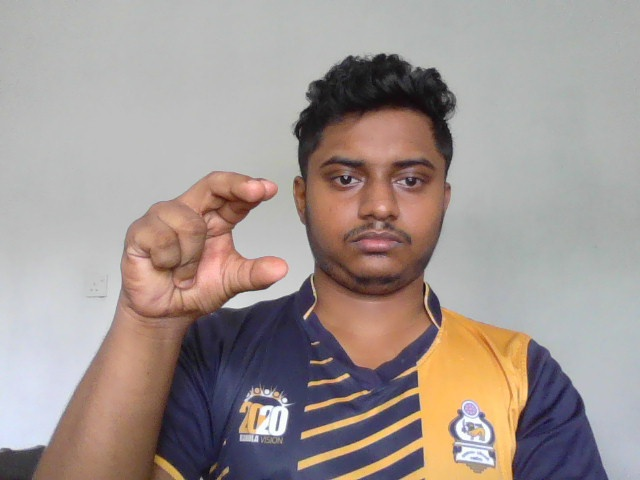No: (118, 169, 291, 324)
